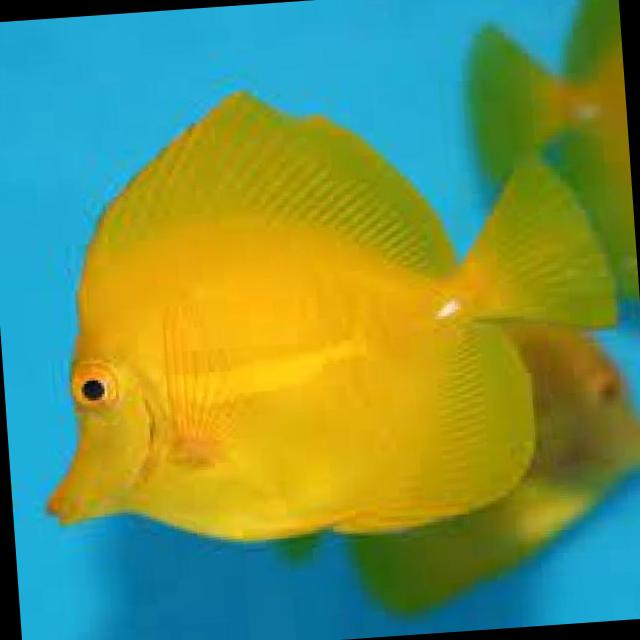TangFish: (17, 52, 630, 562)
